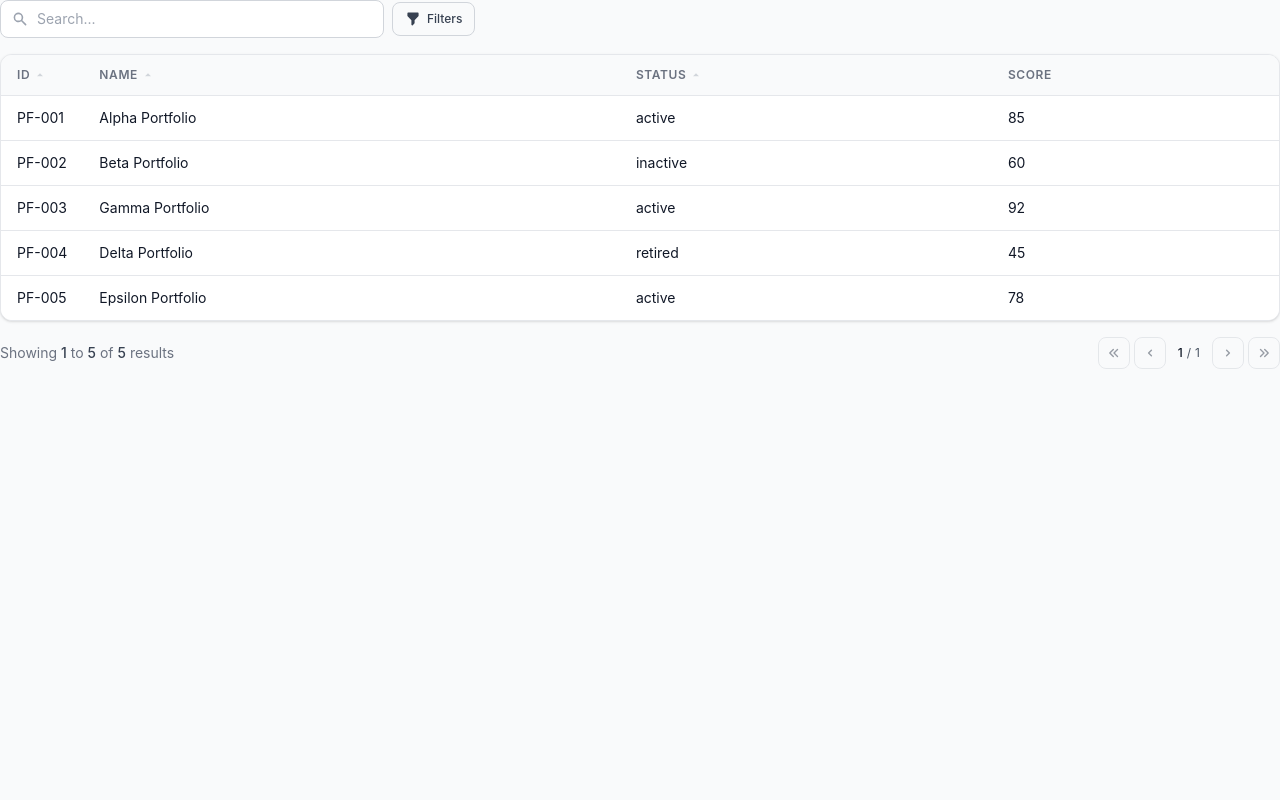
DataTable › filter functionality › opens filter dropdown when filter button is clicked
What coordinates should you click on to do the following:
click the button labelled "Filters"
I would click on:
 (434, 19)
Its box is [392, 2, 475, 36].
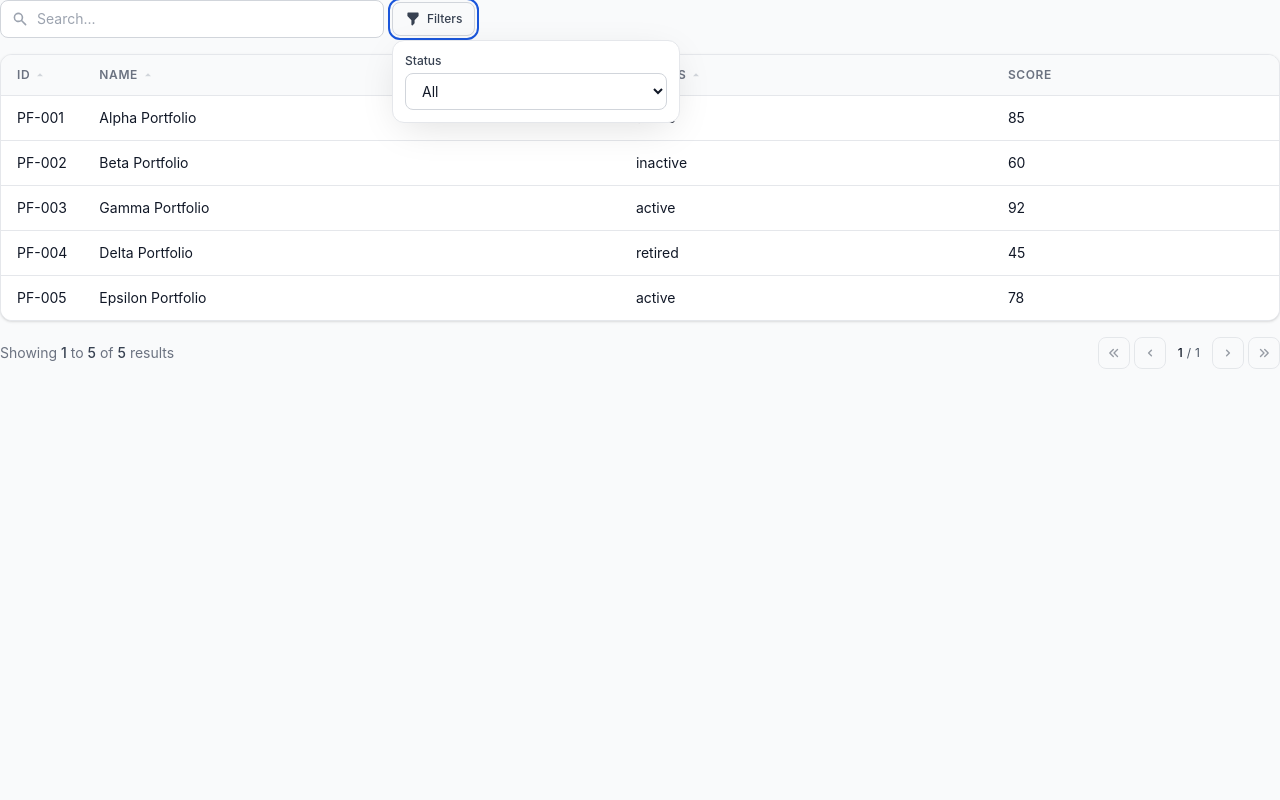
Expected: the dialog named "Filter options" is shown, [392, 40, 680, 123]
